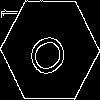O: (25, 25, 77, 82)
